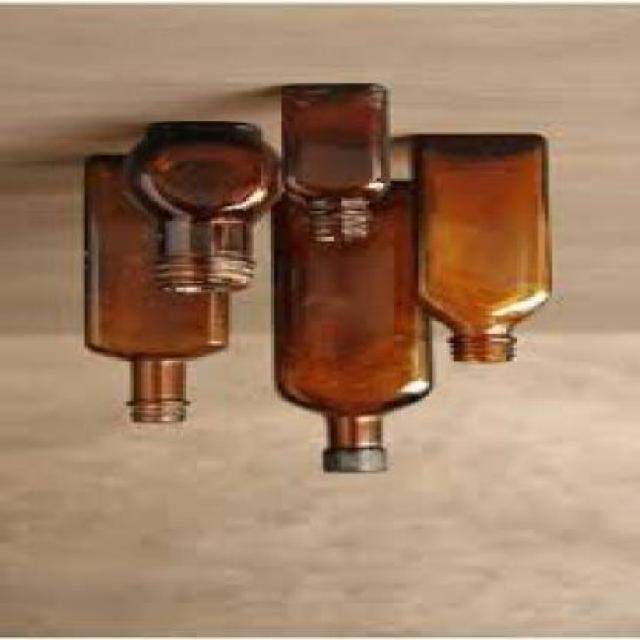glass: (268, 188, 426, 452), (82, 157, 223, 425), (408, 136, 544, 364), (120, 123, 274, 295), (274, 86, 383, 246)
plastic: (317, 454, 388, 475)
